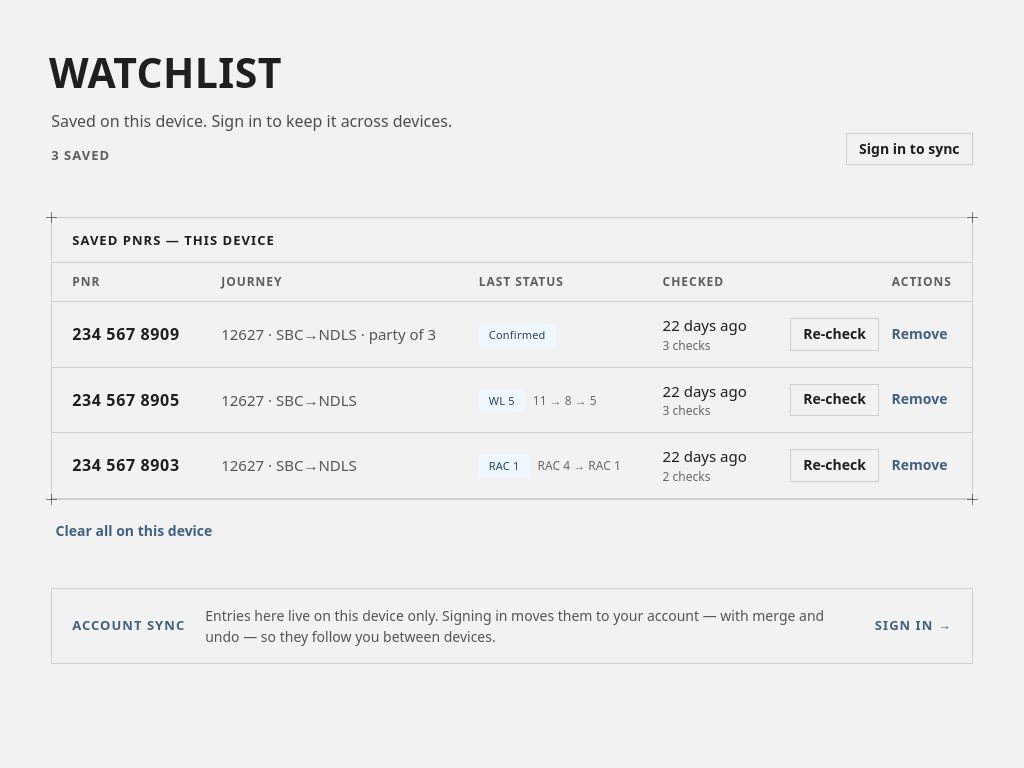
Test: WatchlistView — this device › announces a failed re-check without touching the entry
The width and height of the screenshot is (1024, 768).
What coordinates should you click on to do the following:
click the button with test id "watchlist-recheck"
I would click on:
 (835, 400)
Its box is [790, 384, 879, 416].
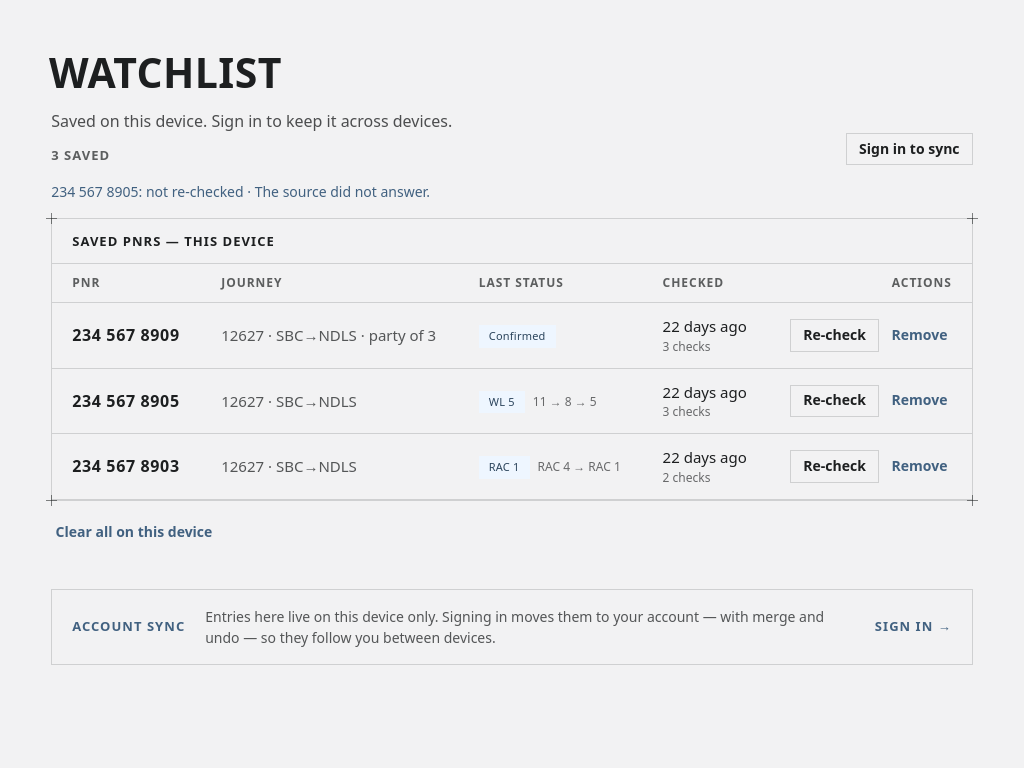
Check: the text "234 567 8905: not re-checked · The source did not answer." is shown, box [51, 182, 430, 201]
